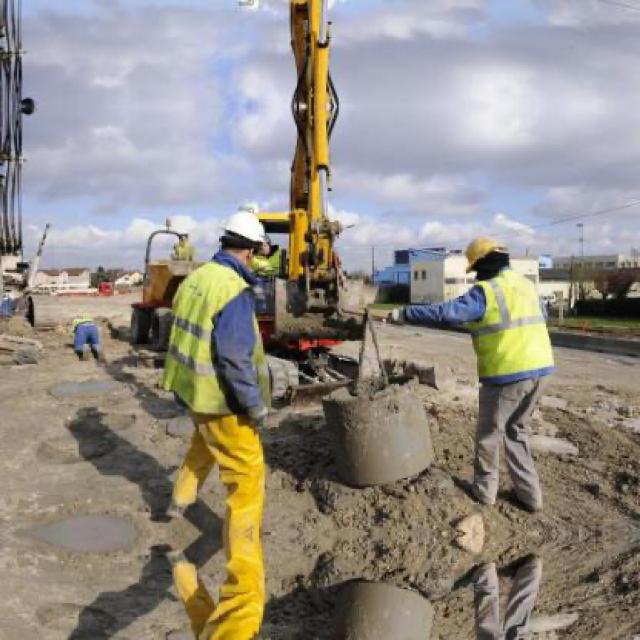con casco: (442, 218, 566, 290), (201, 203, 276, 284)
